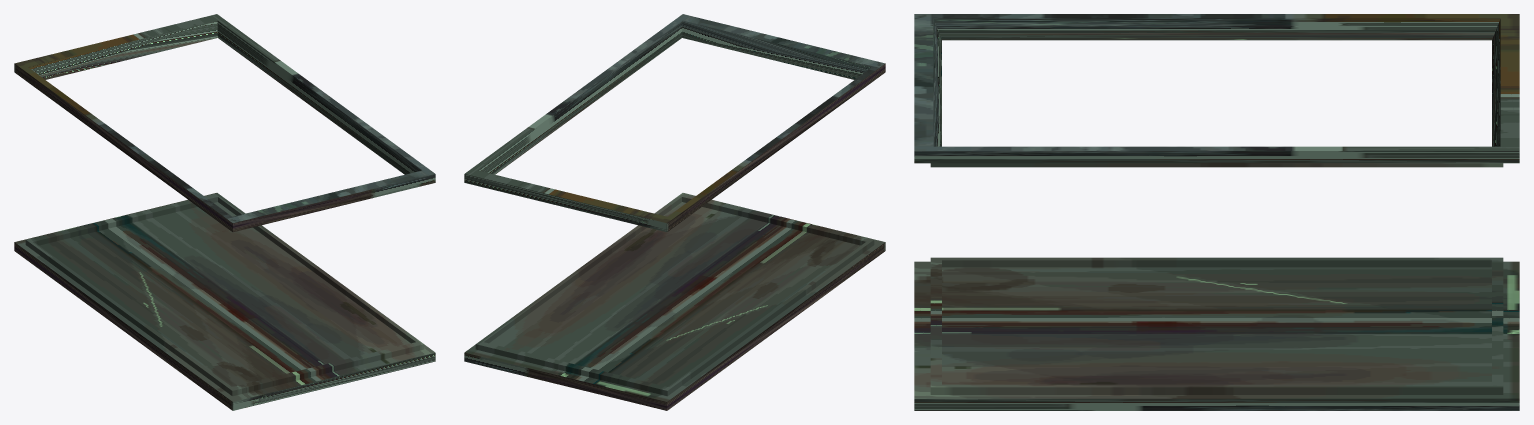
The model's file is SM_tank.fbx.
The picture shows the model from 3 angles, left to right: view 1: azimuth 30°, elevation 25°; view 2: azimuth 150°, elevation 25°; view 3: azimuth 270°, elevation 25°; orthographic projection. The views are drawn at different scales.
Parts seen in each view (by area): view 1: SM_tankbottom; view 2: SM_tankbottom; view 3: SM_tankbottom.
Boxes of the visible parts, bbox=[...] form: SM_tankbottom: bbox=[14, 14, 435, 410]; SM_tankbottom: bbox=[464, 14, 885, 410]; SM_tankbottom: bbox=[914, 14, 1519, 410].
Size of the model in its own units: 30.95 by 27.38 by 57.76.
